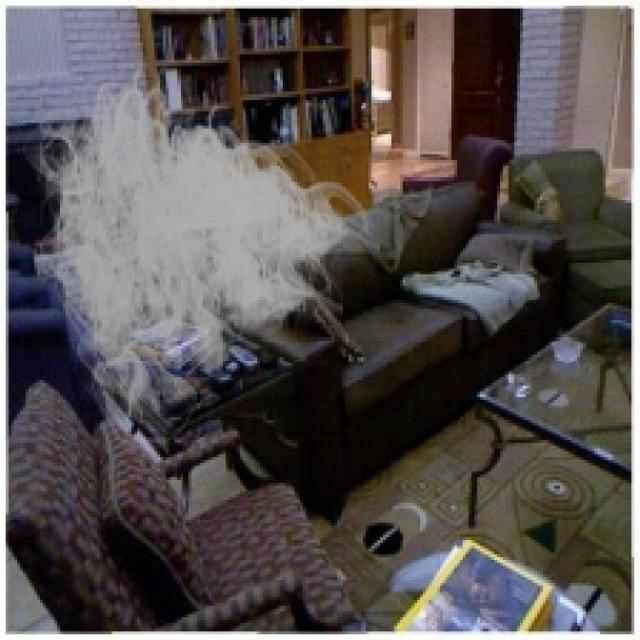Smoke: (14, 48, 380, 460)
